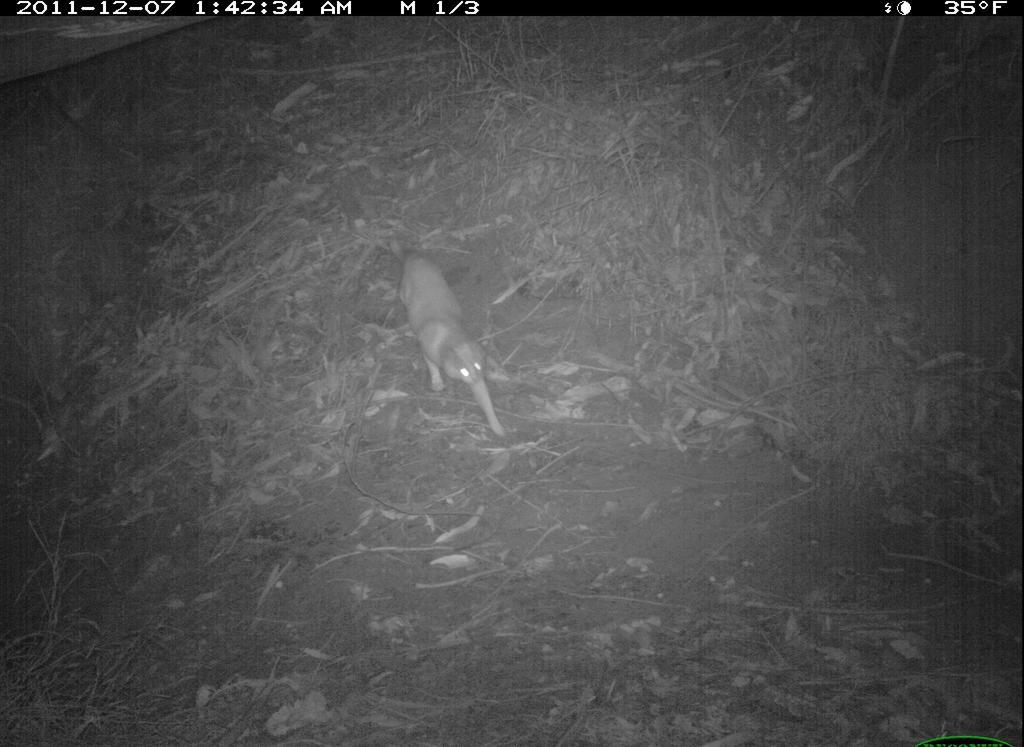cat: (381, 253, 511, 451)
